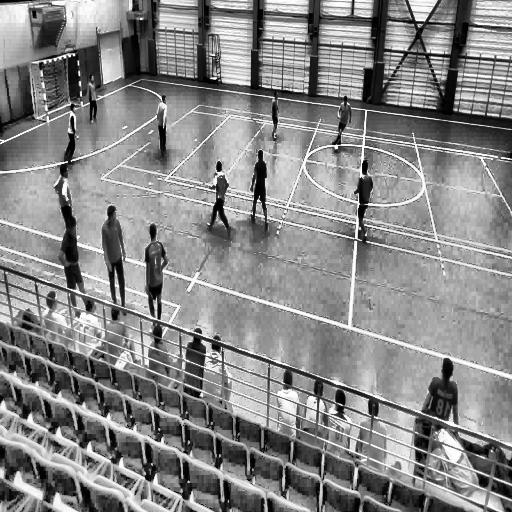ball: (332, 143, 340, 155)
player: (102, 204, 128, 312), (145, 221, 168, 332), (207, 159, 232, 239), (353, 158, 372, 245), (250, 148, 268, 233), (55, 163, 75, 235), (332, 95, 352, 152), (157, 92, 169, 160), (65, 102, 78, 164), (86, 72, 100, 125), (270, 89, 280, 143)
